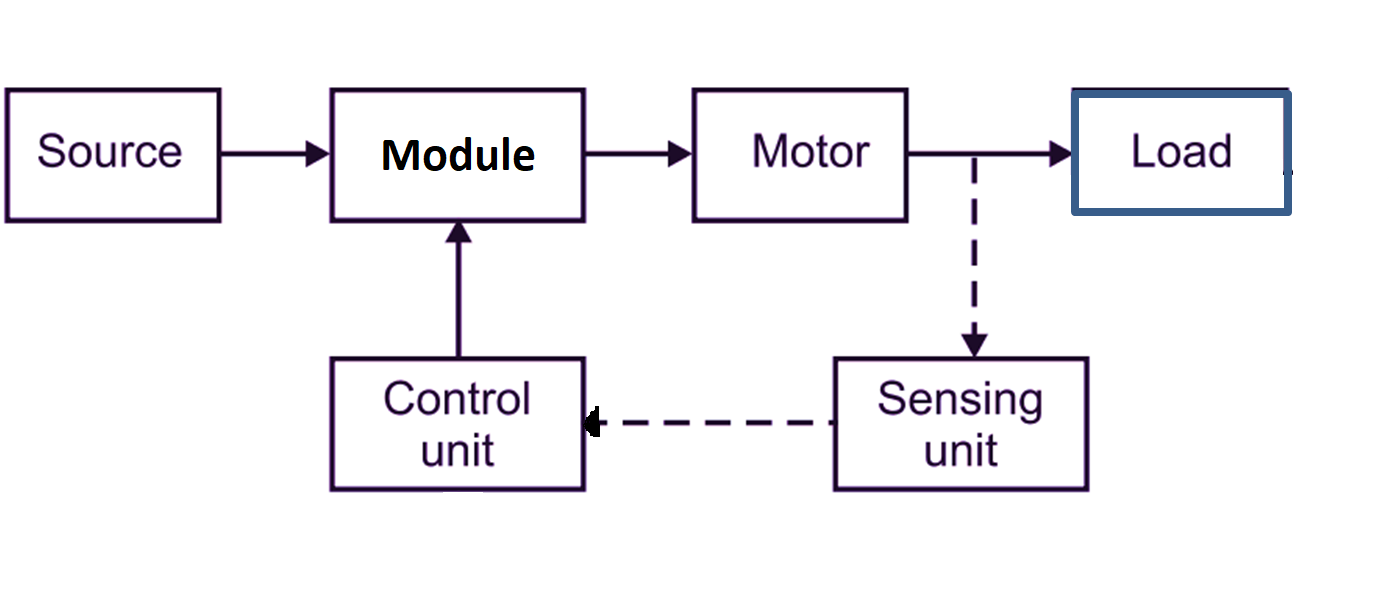arrow: (578, 401, 846, 439), (959, 151, 991, 361), (903, 137, 1076, 169), (441, 215, 476, 362), (583, 136, 698, 172), (216, 139, 334, 169)
process: (326, 82, 594, 229), (827, 353, 1094, 496), (326, 353, 592, 496), (1066, 80, 1296, 223), (688, 83, 913, 229), (2, 83, 227, 226)
text: (874, 376, 1045, 469), (380, 376, 539, 468), (378, 133, 541, 180), (35, 128, 187, 173), (749, 128, 871, 176), (1128, 129, 1235, 172)
